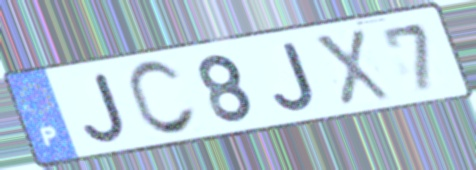7: (377, 18, 435, 93)
8: (195, 51, 257, 125)
C: (123, 58, 201, 140)
J: (79, 69, 130, 145), (270, 39, 320, 113)
X: (309, 26, 395, 109)
